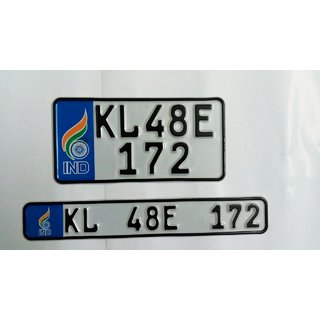number_plate: (52, 96, 227, 182), (23, 197, 271, 242)
